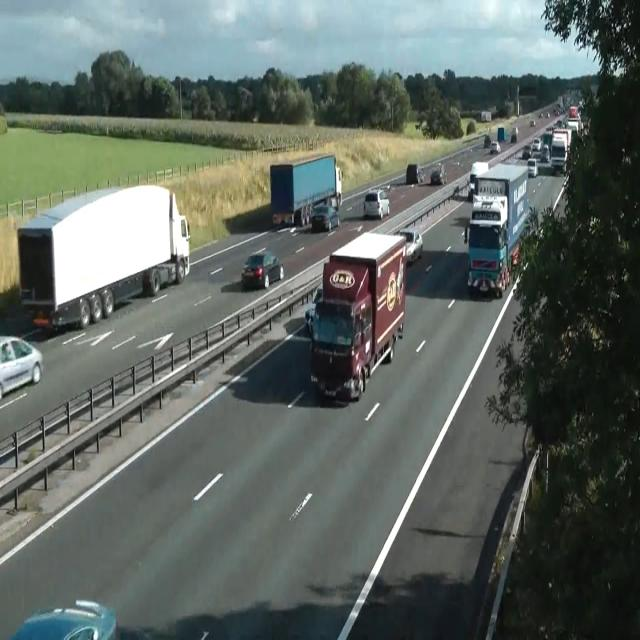bus: (11, 599, 117, 639), (0, 334, 44, 398), (240, 247, 284, 290), (397, 228, 423, 264), (310, 204, 340, 232), (484, 134, 500, 154), (430, 167, 446, 185), (527, 157, 537, 177), (540, 145, 550, 163), (416, 165, 425, 183), (531, 136, 541, 152), (490, 140, 500, 154), (510, 126, 518, 142), (522, 145, 531, 159), (569, 105, 578, 117), (484, 134, 491, 148), (553, 106, 561, 116), (530, 119, 536, 127)
jeep: (363, 188, 389, 220)
minibus: (17, 182, 190, 332), (304, 231, 408, 402), (466, 162, 528, 298), (270, 153, 342, 227), (468, 161, 488, 202), (406, 163, 424, 184), (497, 126, 505, 142), (481, 110, 491, 122)
